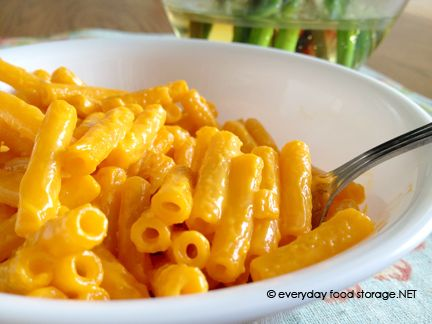macncheese: (1, 52, 368, 304)
